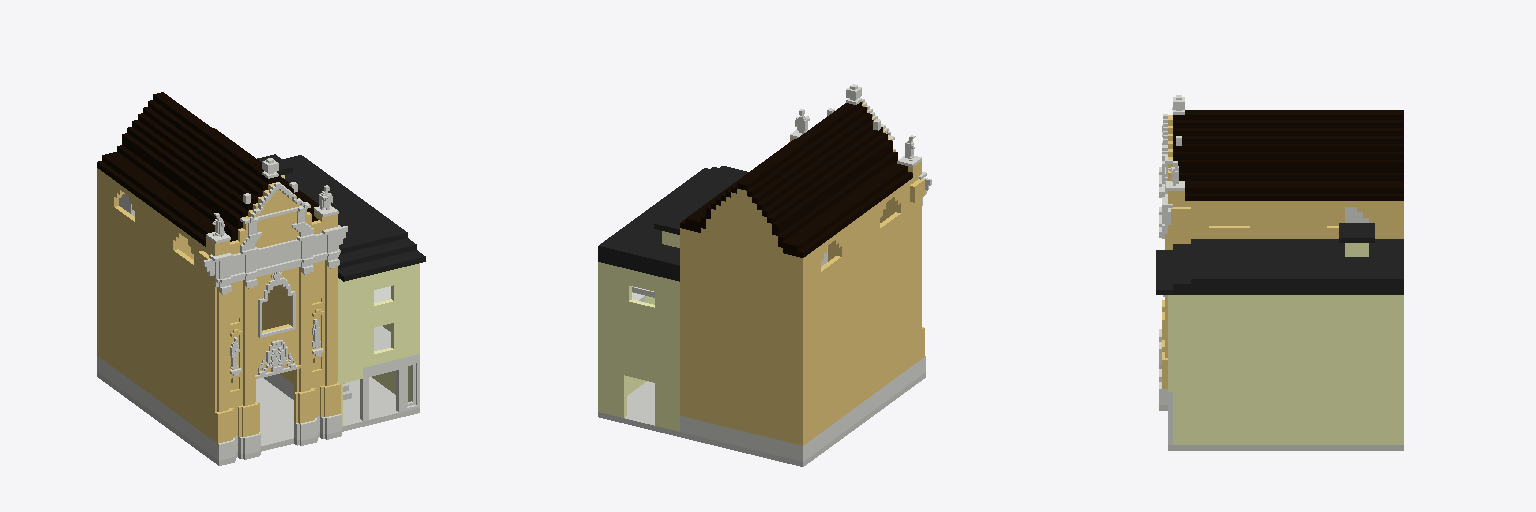
The picture shows the model from 3 angles: view 1: azimuth 30°, elevation 25°; view 2: azimuth 150°, elevation 25°; view 3: azimuth 270°, elevation 25°; orthographic projection.
Visible parts, largest first — view 1: object 1; view 2: object 1; view 3: object 1.
Part boxes in pixels (left/top/right/bottom): object 1: left=97, top=92, right=425, bottom=465; object 1: left=598, top=84, right=931, bottom=466; object 1: left=1156, top=95, right=1403, bottom=450.
Size of the model in its own units: 16.8 by 21.2 by 16.8.
Materials: 1 (1 with a texture image).